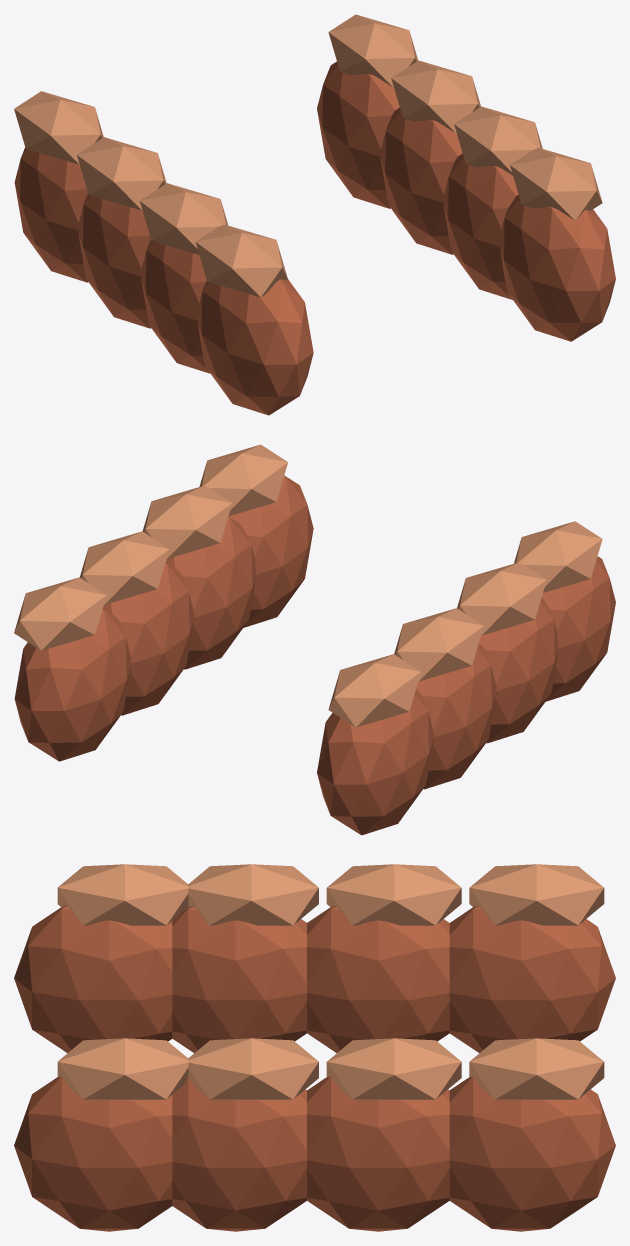
The model's file is race_canyon.glb.
The picture shows the model from 3 angles, top to bottom: view 1: azimuth 30°, elevation 25°; view 2: azimuth 150°, elevation 25°; view 3: azimuth 270°, elevation 25°; orthographic projection. The views are drawn at different scales.
Parts seen in each view (by area): view 1: race_canyon; view 2: race_canyon; view 3: race_canyon.
Boxes of the visible parts, x1=… form: race_canyon: x1=14, y1=14, x2=615, y2=415; race_canyon: x1=14, y1=444, x2=615, y2=835; race_canyon: x1=14, y1=864, x2=615, y2=1231.
Bounding box in the file's own units: 31.72 × 13.7 × 38.
